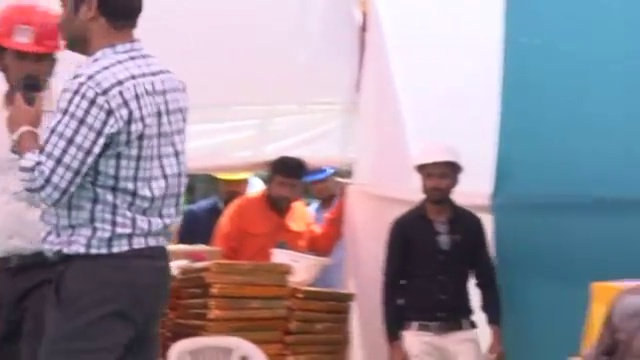helmet: (1, 5, 62, 61), (265, 248, 342, 285), (305, 162, 336, 184)
helmet_off: (59, 2, 145, 61), (260, 158, 311, 215), (415, 155, 461, 211)
helmet_on: (0, 5, 63, 103), (307, 161, 344, 204)
person: (8, 0, 193, 357), (0, 8, 87, 359), (385, 149, 499, 356), (210, 154, 346, 261), (173, 170, 250, 255)
